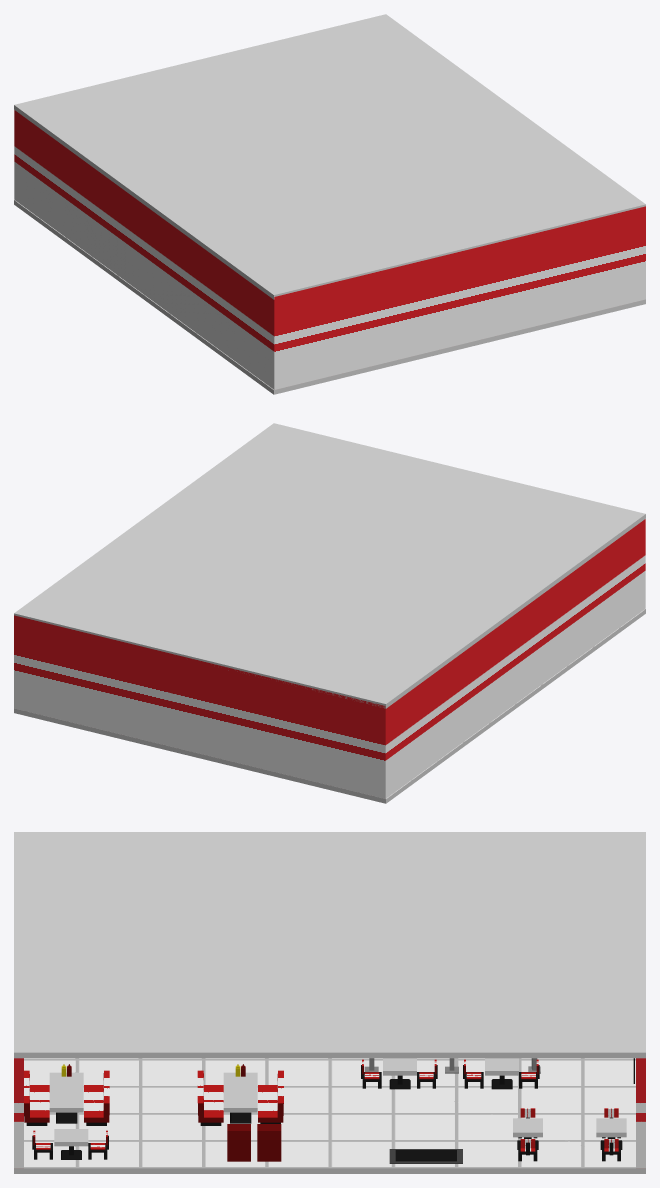
Rendered from Block Burger V2.fbx.
3 views of the same model, one above another, from view 1: azimuth 30°, elevation 25°; view 2: azimuth 150°, elevation 25°; view 3: azimuth 270°, elevation 25° (orthographic). The views are drawn at different scales.
Parts seen in each view (by area): view 1: Fast_Food_Ceiling, Fast_Food_Wall, Fast_Food_Floor; view 2: Fast_Food_Ceiling, Fast_Food_Wall, Fast_Food_Floor; view 3: Fast_Food_Ceiling, Fast_Food_Floor, Fast_Food_Wall, Chair4 (×2), Chair (×2), Table4, Table5, Bin1, Bin, Mat_Part, Table_Small2, Table_Small1 (+3 smaller).
Part boxes in pixels (x1=…): Fast_Food_Ceiling: x1=14, y1=14, x2=645, y2=299; Fast_Food_Wall: x1=14, y1=110, x2=645, y2=389; Fast_Food_Floor: x1=14, y1=200, x2=645, y2=394; Fast_Food_Ceiling: x1=14, y1=423, x2=645, y2=708; Fast_Food_Wall: x1=14, y1=519, x2=645, y2=798; Fast_Food_Floor: x1=14, y1=609, x2=645, y2=803; Fast_Food_Ceiling: x1=14, y1=832, x2=645, y2=1058; Fast_Food_Floor: x1=14, y1=1058, x2=645, y2=1173; Fast_Food_Wall: x1=14, y1=1058, x2=645, y2=1168; Chair4 (×2): x1=24, y1=1070, x2=223, y2=1122; Chair (×2): x1=84, y1=1070, x2=283, y2=1122; Table4: x1=223, y1=1072, x2=257, y2=1112; Table5: x1=49, y1=1072, x2=83, y2=1112; Bin1: x1=257, y1=1124, x2=281, y2=1161; Bin: x1=227, y1=1124, x2=250, y2=1161; Mat_Part: x1=395, y1=1150, x2=456, y2=1161; Table_Small2: x1=54, y1=1129, x2=88, y2=1146; Table_Small1: x1=596, y1=1118, x2=626, y2=1137.
Size of the model in its own units: 133 by 34.03 by 161.
24 materials, 4 textured.
